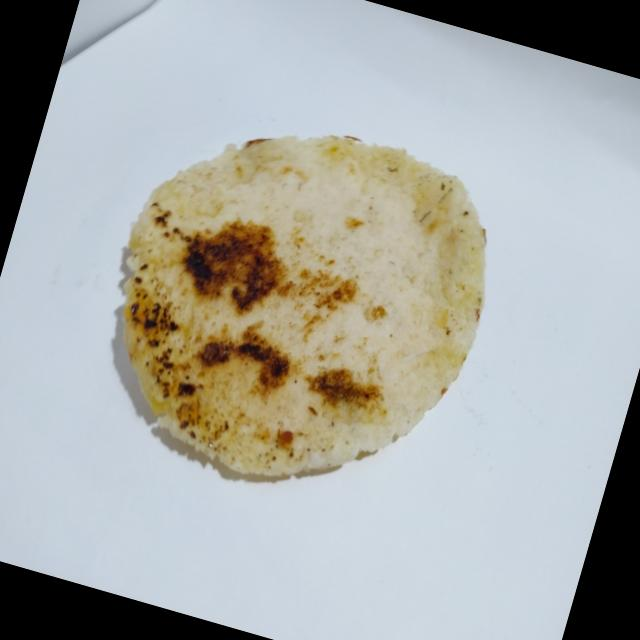Mbeju: (61, 72, 530, 540)
